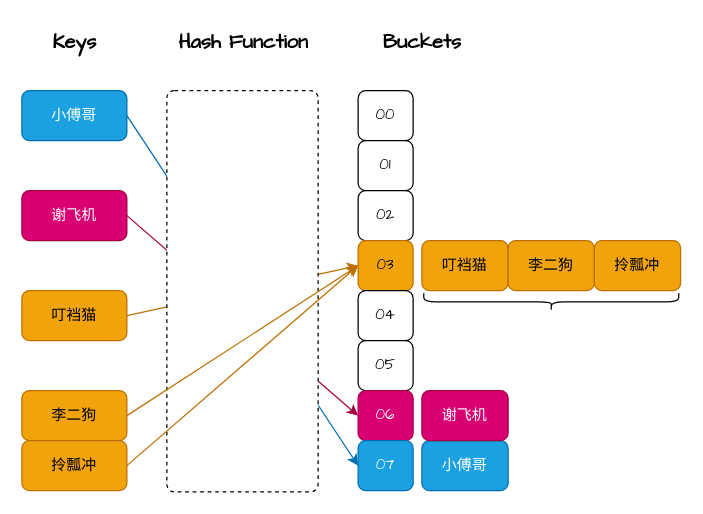
Some shapes in this 703 by 514 pixel diagram are drawn without their labels. The box of each missing label's shape, as (x1, y1, x2, y2) in pixels:
发生冲突: (422, 292, 679, 311)
哈希函数 key.hashCode()&7: (166, 89, 318, 492)
